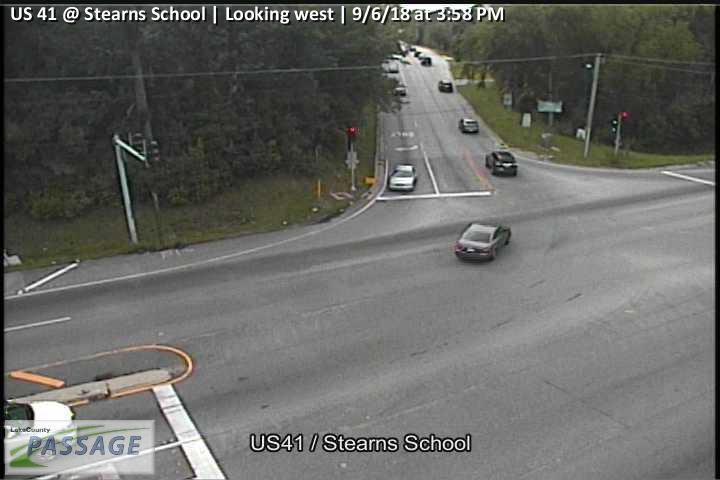SUV: (485, 150, 518, 177), (459, 117, 480, 134), (438, 79, 454, 93)
Sedan: (452, 218, 513, 264), (387, 164, 418, 191)
